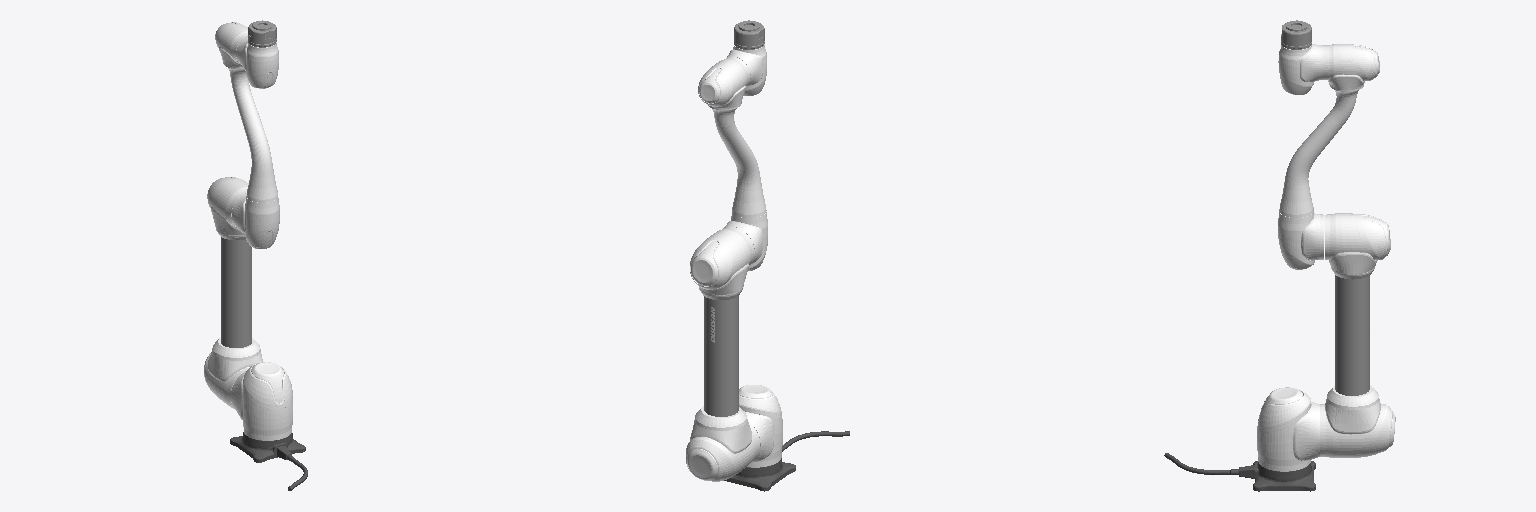
robot.urdf — m1013:
<?xml version="1.0" ?>
<robot name="m1013">

  <!-- I change/add this  -->
  <link name="world"/>
  <joint name="world_fixed" type="fixed">
    <origin xyz="0 0 0" rpy="0 0 0"/>
    <parent link="world"/>
    <child link="base_0"/>
  </joint>
  <!-- /////////////////  -->

  <!-- <link name="base"/> -->
  <!--<joint name="fixed" type="fixed"> -->
    <!--<parent link="base"/> -->
    <!--<child link="base_0"/> -->
  <!--</joint> -->
  
  <link name="base_0">
	<inertial>
	  <mass value="3.722"/>
	  <origin xyz="-1.2e-05 -6e-05 0.050723"/>
      <inertia ixx="0.011" ixy="-7.19e-06" ixz="-1.94e-06" iyy="0.011" iyz="4.9e-06" izz="0.014"/>
    </inertial>
	<visual>
      <origin rpy="0 0 0" xyz="0 0 0"/>
      <geometry>
        <mesh filename="package://my_doosan_pkg/description//meshes/m1013_white/MF1013_0_0.dae" scale="0.001 0.001 0.001"/>
      </geometry>
    </visual>
  </link>

  <joint name="joint1" type="revolute">
    <parent link="base_0"/>
    <child link="link1"/>
    <origin rpy="0 0 0" xyz="0 0 0.1525"/>
    <axis xyz="0 0 1"/>
    <limit effort="30" lower="-2.617" upper="2.617" velocity="1.571"/>
  </joint>

  <link name="link1">
	<inertial>
	  <mass value="7.446"/>
	  <origin xyz="7e-05 0.044281 0.143327"/>
      <inertia ixx="0.039" ixy="2.1e-05" ixz="-3.61e-05" iyy="0.023" iyz="-0.003" izz="0.039"/>
    </inertial>
    <visual>
      <origin rpy="0 0 0" xyz="0 0 0"/>
      <geometry>
        <mesh filename="package://my_doosan_pkg/description//meshes/m1013_white/MF1013_1_0.dae" scale="0.001 0.001 0.001"/>
      </geometry>
    </visual>
  </link>
  
  <joint name="joint2" type="revolute">
    <parent link="link1"/>
    <child link="link2"/>
    <origin rpy="0 -1.571 -1.571" xyz="0 0.0345 0"/>
    <axis xyz="0 0 1"/>
    <limit effort="30" lower="-2.617" upper="2.617" velocity="1.571"/>
  </joint>

  <link name="link2">
	<inertial>
	  <mass value="10.569"/>
	  <origin xyz="-1.6e-05 0.189372 0.418558"/>
      <inertia ixx="0.820" ixy="1.19e-05" ixz="-0.000263" iyy="0.82" iyz="-0.008" izz="0.031"/>
    </inertial>
    <visual>
      <origin rpy="0 0 0" xyz="0 0 0"/>
      <geometry>
        <mesh filename="package://my_doosan_pkg/description//meshes/m1013_white/MF1013_2_0.dae" scale="0.001 0.001 0.001"/>
      </geometry>
    </visual>
    <visual>
      <origin rpy="0 0 0" xyz="0 0 0"/>
      <geometry>     
		<mesh filename="package://my_doosan_pkg/description//meshes/m1013_white/MF1013_2_1.dae" scale="0.001 0.001 0.001"/>
      </geometry>
	  </visual>
    <visual>
      <origin rpy="0 0 0" xyz="0 0 0"/>
      <geometry>     
		<mesh filename="package://my_doosan_pkg/description//meshes/m1013_white/MF1013_2_2.dae" scale="0.001 0.001 0.001"/>
      </geometry>
    </visual>	
  </link>

  <joint name="joint3" type="revolute">
    <parent link="link2"/>
    <child link="link3"/>
    <origin rpy="0 0 1.571" xyz="0.62 0 0"/>
    <axis xyz="0 0 1"/>
    <limit effort="30" lower="-2.617" upper="2.617" velocity="1.571"/>
  </joint>
  
  <link name="link3">
	<inertial>
	  <mass value="3.614"/>
	  <origin xyz="6e-06 0.07917 0.781807"/>
      <inertia ixx="0.012" ixy="-4.38e-06" ixz="-1.2e-06" iyy="0.008" iyz="0.002" izz="0.011"/>
    </inertial>
    <visual>
      <origin rpy="0 0 0" xyz="0 0 0"/>
      <geometry>     
		<mesh filename="package://my_doosan_pkg/description//meshes/m1013_white/MF1013_3_0.dae" scale="0.001 0.001 0.001"/>
      </geometry>
    </visual>
  </link>

  <joint name="joint4" type="revolute">
    <parent link="link3"/>
    <child link="link4"/>
    <origin rpy="1.571 0 0" xyz="0 -0.559 0"/>
    <axis xyz="0 0 1"/>
    <limit effort="30" lower="-2.617" upper="2.617" velocity="1.571"/>
  </joint>
  
  <link name="link4">
	<inertial>
	  <mass value="3.785"/>
	  <origin xyz="-2.1e-05 0.12337 1.148"/>
      <inertia ixx="0.177" ixy="-2.34e-06" ixz="-4.92e-06" iyy="0.161" iyz="-0.05" izz="0.022"/>
    </inertial>
    <visual>
      <origin rpy="0 0 0" xyz="0 0 0"/>
      <geometry>     
		<mesh filename="package://my_doosan_pkg/description//meshes/m1013_white/MF1013_4_0.dae" scale="0.001 0.001 0.001"/>
      </geometry>
    </visual>
    <visual>
      <origin rpy="0 0 0" xyz="0 0 0"/>
      <geometry>     
		<mesh filename="package://my_doosan_pkg/description//meshes/m1013_white/MF1013_4_1.dae" scale="0.001 0.001 0.001"/>
      </geometry>
    </visual>
  </link>

  <joint name="joint5" type="revolute">
    <parent link="link4"/>
    <child link="link5"/>
    <origin rpy="-1.571 0 0" xyz="0 0 0"/>
    <axis xyz="0 0 1"/>
    <limit effort="30" lower="-2.617" upper="2.617" velocity="1.571"/>
  </joint>
  
  <link name="link5">
	<inertial>
	  <mass value="2.598"/>
	  <origin xyz="-1.7e-05 0.06662 1.33103"/>
      <inertia ixx="0.007" ixy="-4.93e-06" ixz="-5.57e-06" iyy="0.004" iyz="-6.64e-05" izz="0.007"/>
    </inertial>
    <visual>
      <origin rpy="0 0 0" xyz="0 0 0"/>
      <geometry>     
		<mesh filename="package://my_doosan_pkg/description//meshes/m1013_white/MF1013_5_0.dae" scale="0.001 0.001 0.001"/>
      </geometry>
    </visual>
  </link>

  <joint name="joint6" type="revolute">
    <parent link="link5"/>
    <child link="link6"/>
    <origin rpy="1.571 0 0" xyz="0 -0.121 0"/>
    <axis xyz="0 0 1"/>
    <limit effort="30" lower="-2.617" upper="2.617" velocity="1.571"/>
  </joint>
  
  <link name="link6">
	<inertial>
	  <mass value="1.128"/>
	  <origin xyz="-0.000174 0.034708 1.40022"/>
      <inertia ixx="0.001" ixy="-2.79e-06" ixz="5.78e-06" iyy="0.001" iyz="-6.67e-06" izz="0.001"/>
    </inertial>
    <visual>
      <origin rpy="0 0 0" xyz="0 0 0"/>
      <geometry>     
		<mesh filename="package://my_doosan_pkg/description//meshes/m1013_white/MF1013_6_0.dae" scale="0.001 0.001 0.001"/>
      </geometry>
    </visual>
  </link>
  
</robot>

--- Facts derived from the render (not from the file) ---
Views: 3 orthographic renders of the robot side by side, from view 1: azimuth 30°, elevation 25°; view 2: azimuth 150°, elevation 25°; view 3: azimuth 270°, elevation 25°.
Robot: m1013 — 8 links, 7 joints (6 revolute, 1 fixed); root link world; default pose: all joints at 0.
Visible links, largest first — view 1: link2, link1, link4, link3, link5, base_0, link6; view 2: link2, link4, link1, base_0, link3, link5, link6; view 3: link2, link4, link1, link3, base_0, link5, link6.
Link boxes in pixels (bbox=[...]): link2: bbox=[204, 177, 262, 408]; link1: bbox=[231, 362, 292, 440]; link4: bbox=[215, 22, 277, 202]; link3: bbox=[232, 193, 279, 248]; link5: bbox=[236, 37, 278, 88]; base_0: bbox=[230, 432, 307, 490]; link6: bbox=[248, 20, 276, 47]; link2: bbox=[686, 227, 759, 481]; link4: bbox=[698, 57, 766, 217]; link1: bbox=[739, 385, 782, 467]; base_0: bbox=[724, 431, 849, 491]; link3: bbox=[724, 211, 767, 270]; link5: bbox=[727, 44, 766, 95]; link6: bbox=[734, 20, 764, 49]; link2: bbox=[1320, 213, 1395, 457]; link4: bbox=[1279, 44, 1379, 217]; link1: bbox=[1257, 387, 1319, 471]; link3: bbox=[1278, 212, 1323, 269]; base_0: bbox=[1164, 453, 1315, 491]; link5: bbox=[1278, 44, 1323, 94]; link6: bbox=[1281, 20, 1311, 49].
Bounding box of the posed robot: 0.2144 × 0.6714 × 1.45 m (x, y, z).
10 mesh visuals loaded from 10 distinct referenced files (10 Collada DAE).